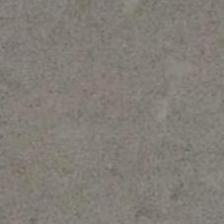Non_Crack: (33, 36, 202, 197)
